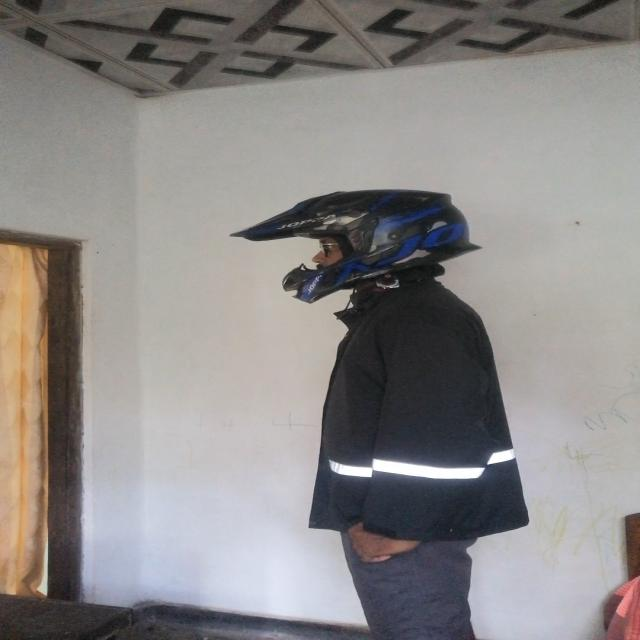Helmet_Wearer: (237, 185, 510, 296)
Jacket_Wearer: (253, 282, 551, 547)
